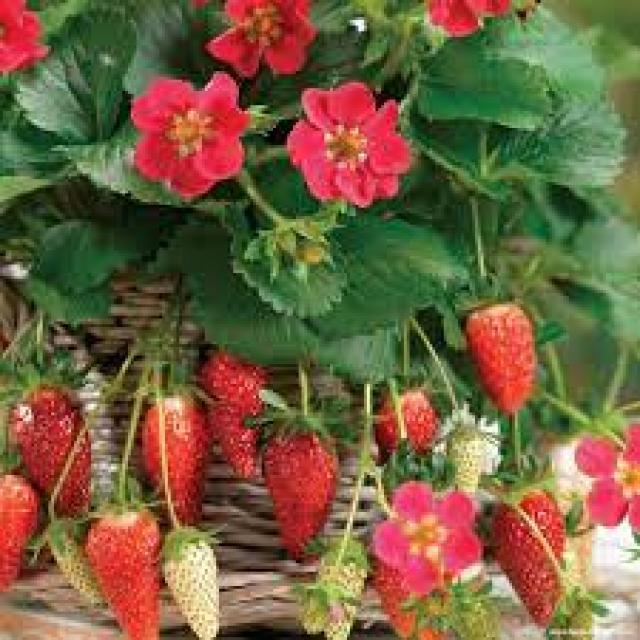Fruta sana: (256, 407, 343, 567), (135, 386, 213, 538), (86, 515, 176, 640), (502, 478, 574, 626), (190, 350, 268, 473), (23, 389, 103, 508), (468, 302, 540, 418), (378, 540, 449, 640), (368, 386, 441, 470), (3, 471, 38, 589)
